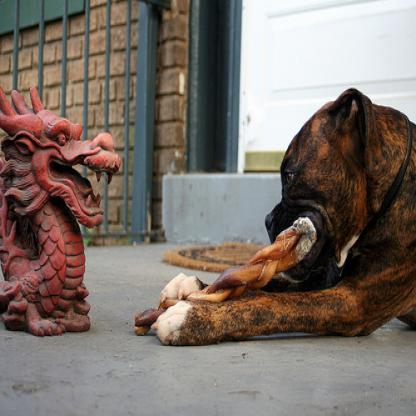dog: (153, 88, 415, 344)
